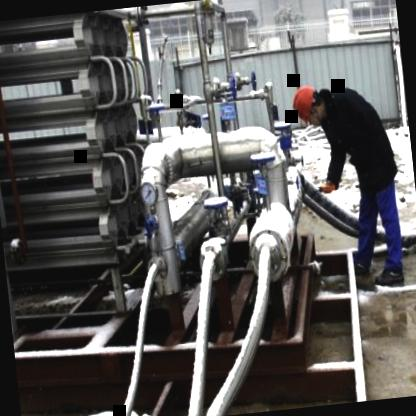helmet: (284, 82, 326, 124)
